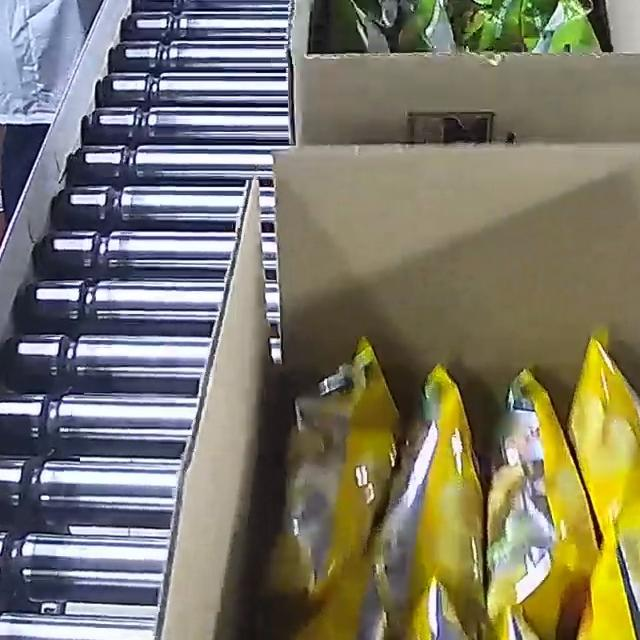salted: (285, 307, 640, 640)
yogurt: (322, 0, 612, 57)
